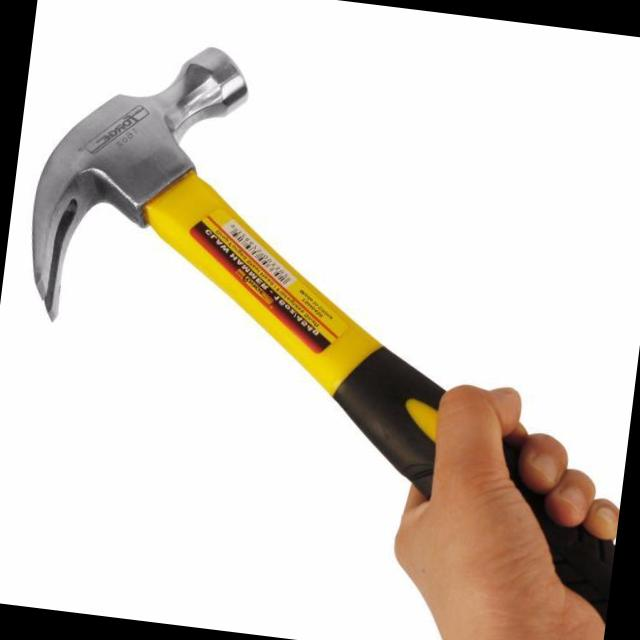hammer: (32, 49, 443, 496), (503, 441, 615, 621)
